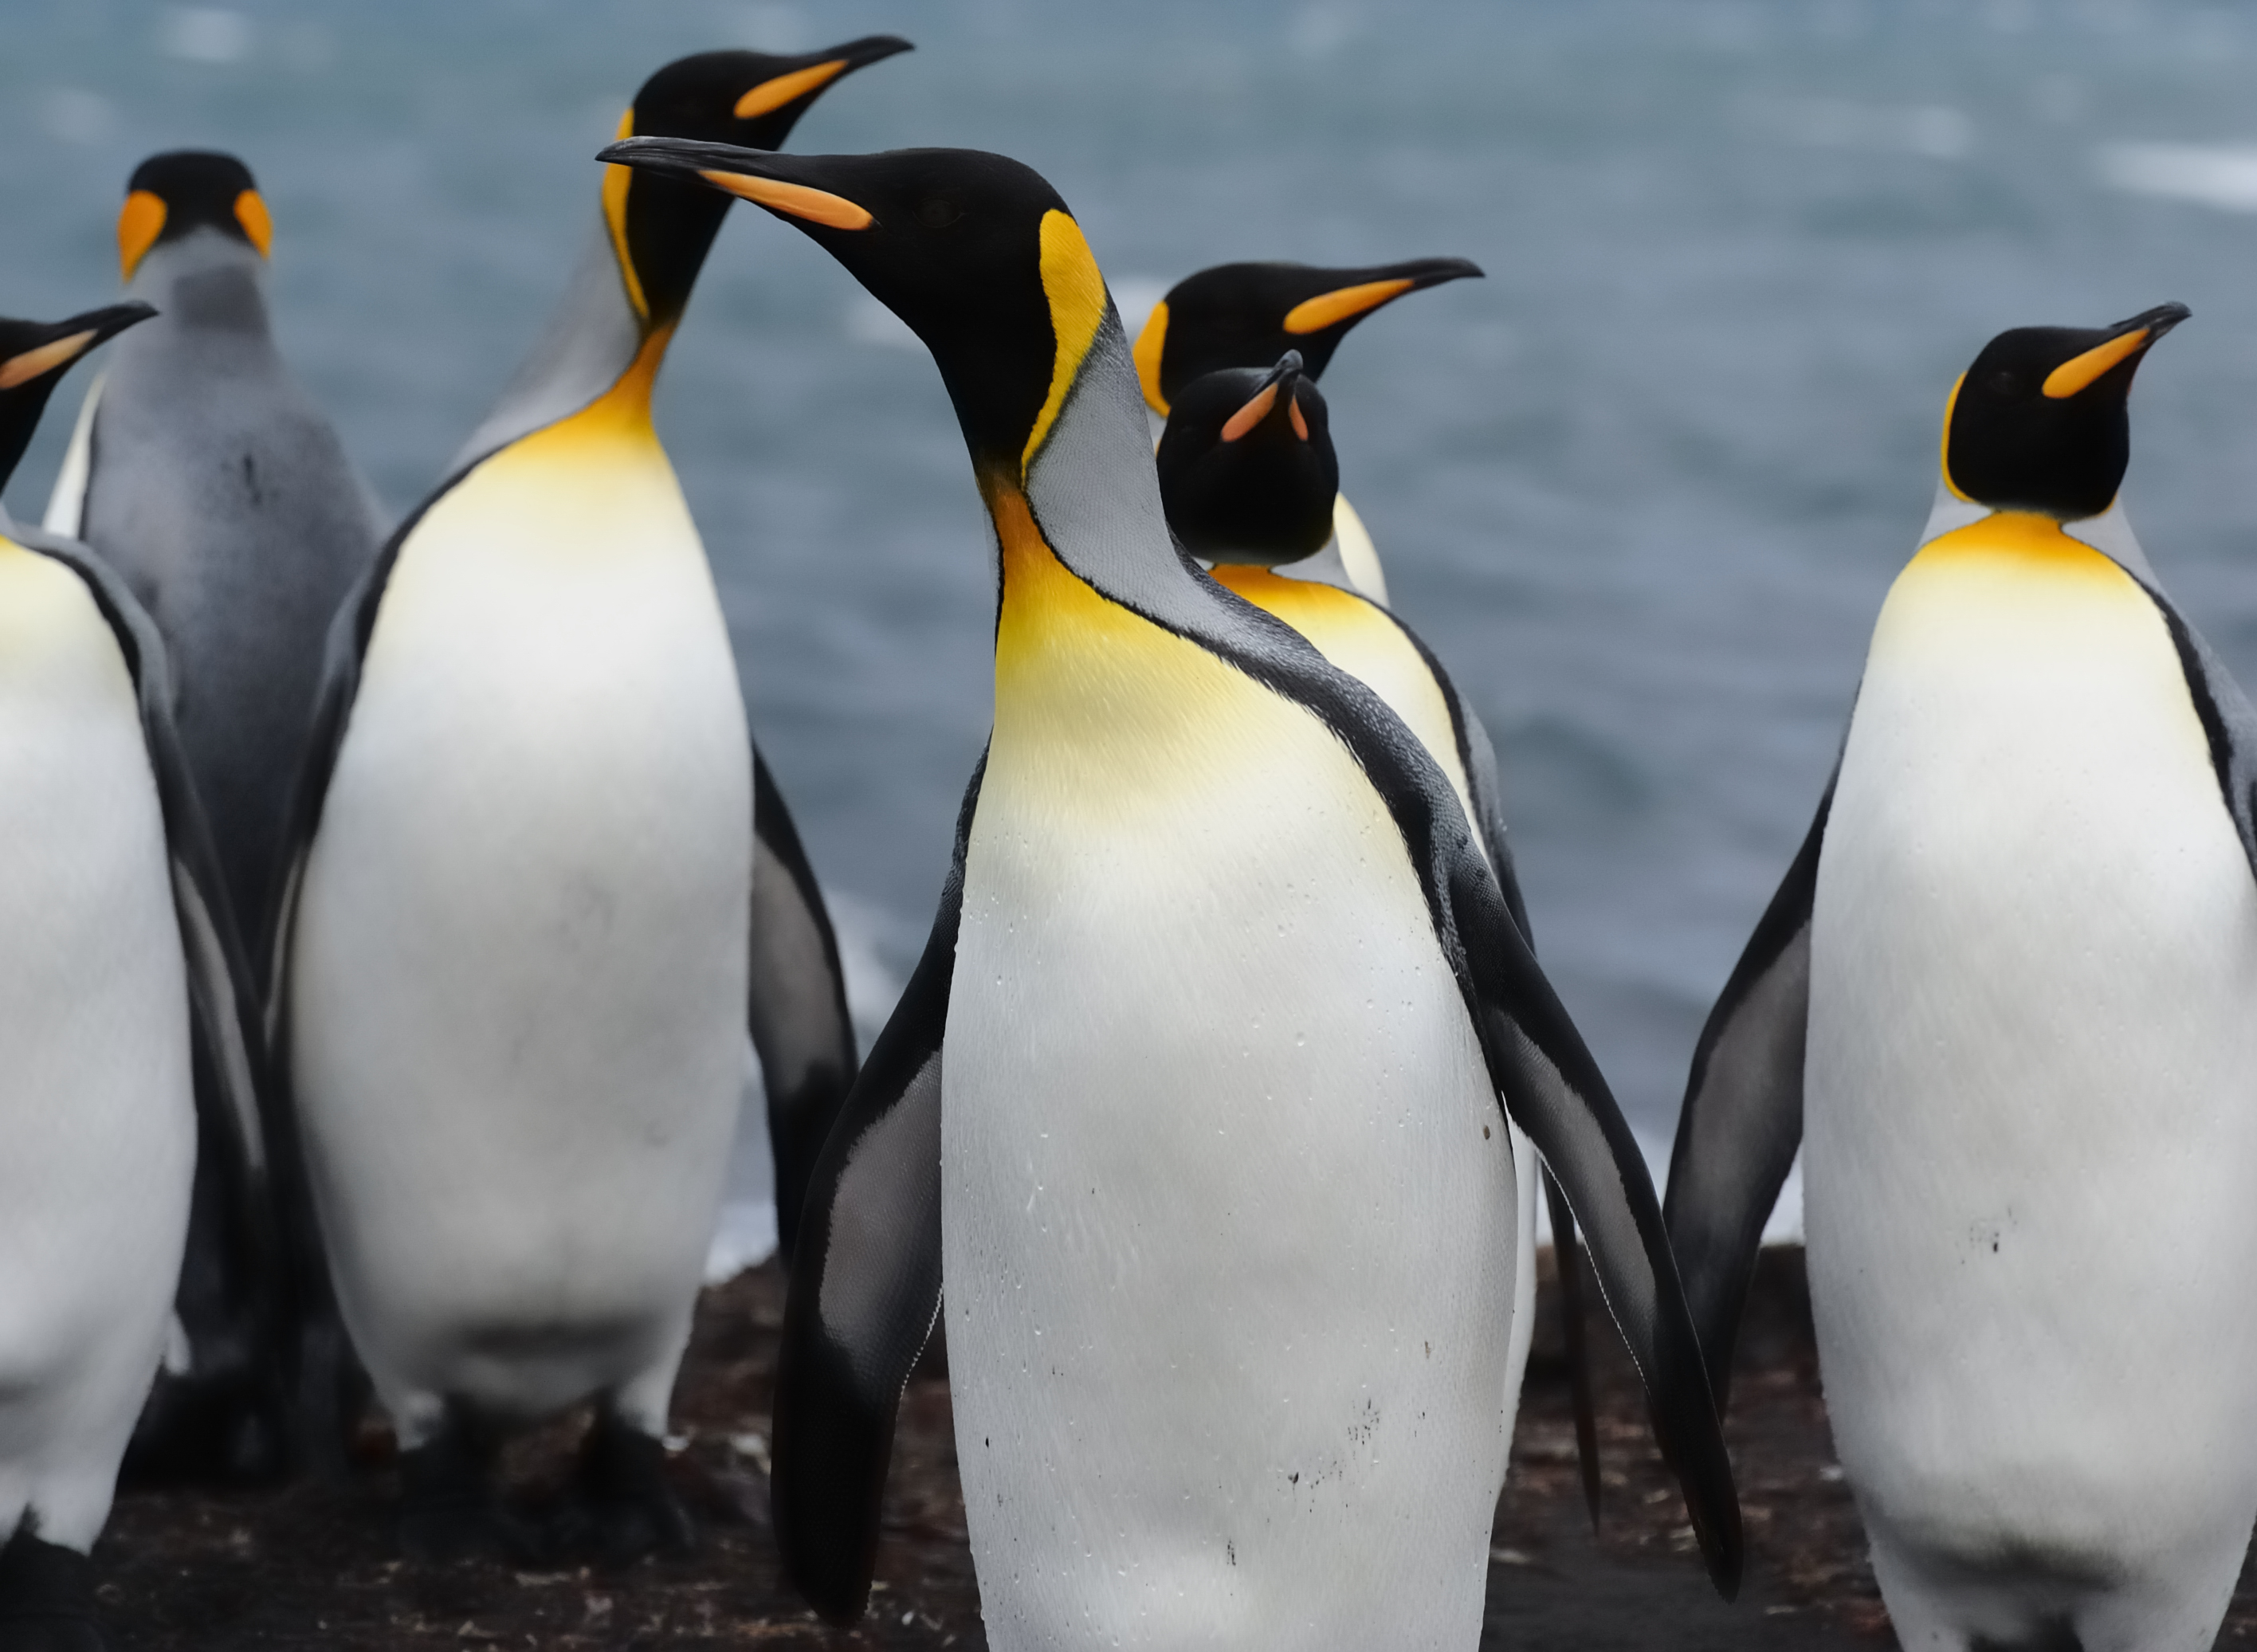penguin: (596, 116, 1702, 1652), (1679, 317, 2257, 1512)
